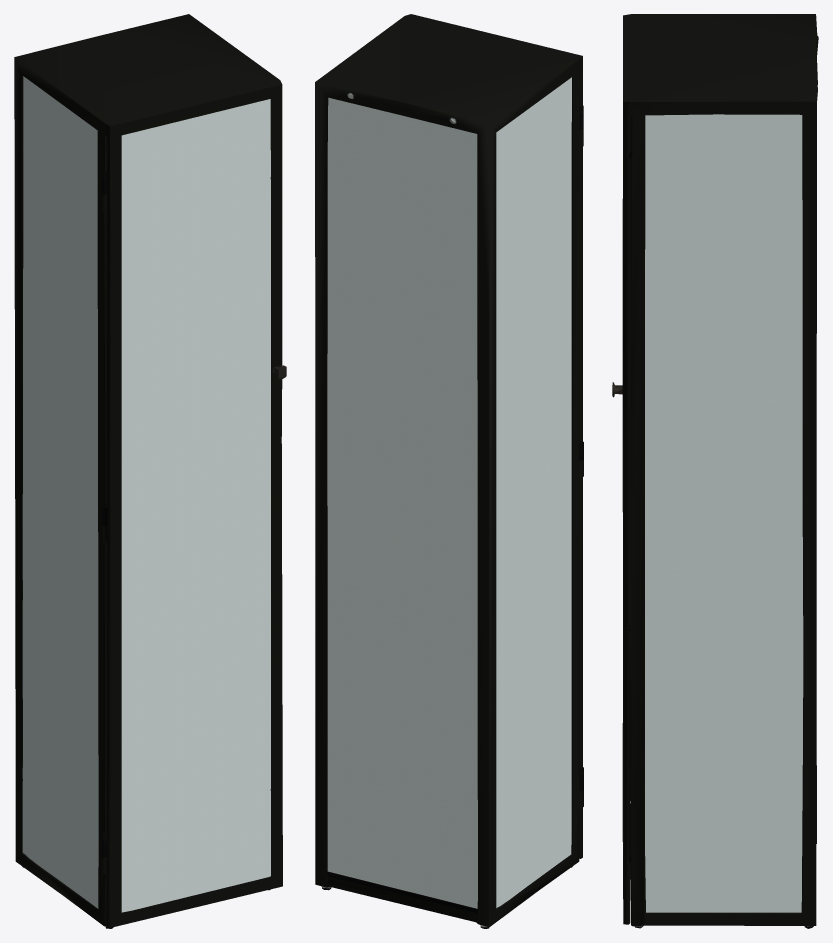
Rendered from blaliden_witryna_00520519.glb.
The picture shows the model from 3 angles, left to right: view 1: azimuth 30°, elevation 25°; view 2: azimuth 150°, elevation 25°; view 3: azimuth 270°, elevation 25°; orthographic projection. The views are drawn at different scales.
Visible parts, largest first — view 1: blaliden_witryna_00520519; view 2: blaliden_witryna_00520519; view 3: blaliden_witryna_00520519.
Part boxes in pixels (left/top/right/bottom): blaliden_witryna_00520519: left=14, top=14, right=286, bottom=928; blaliden_witryna_00520519: left=315, top=14, right=583, bottom=928; blaliden_witryna_00520519: left=612, top=14, right=818, bottom=928.
Size of the model in its own units: 0.3486 by 1.51 by 0.3407.
Materials: 2 (2 with a texture image).
